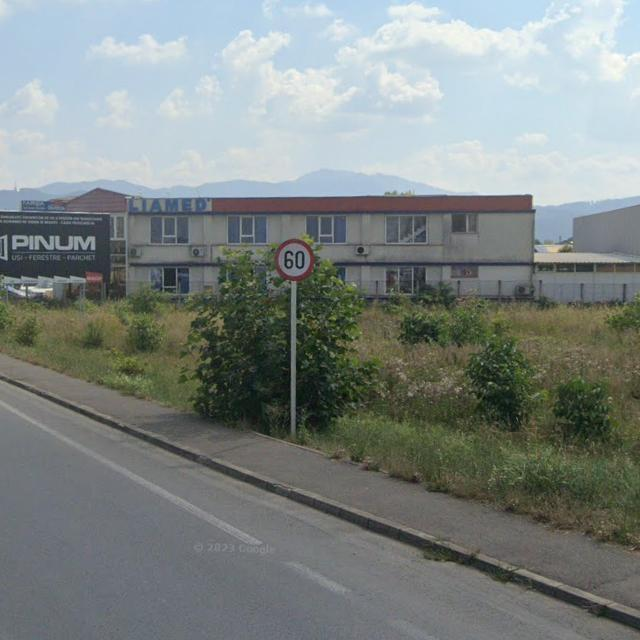forb_speed_over_60: (275, 238, 315, 282)
